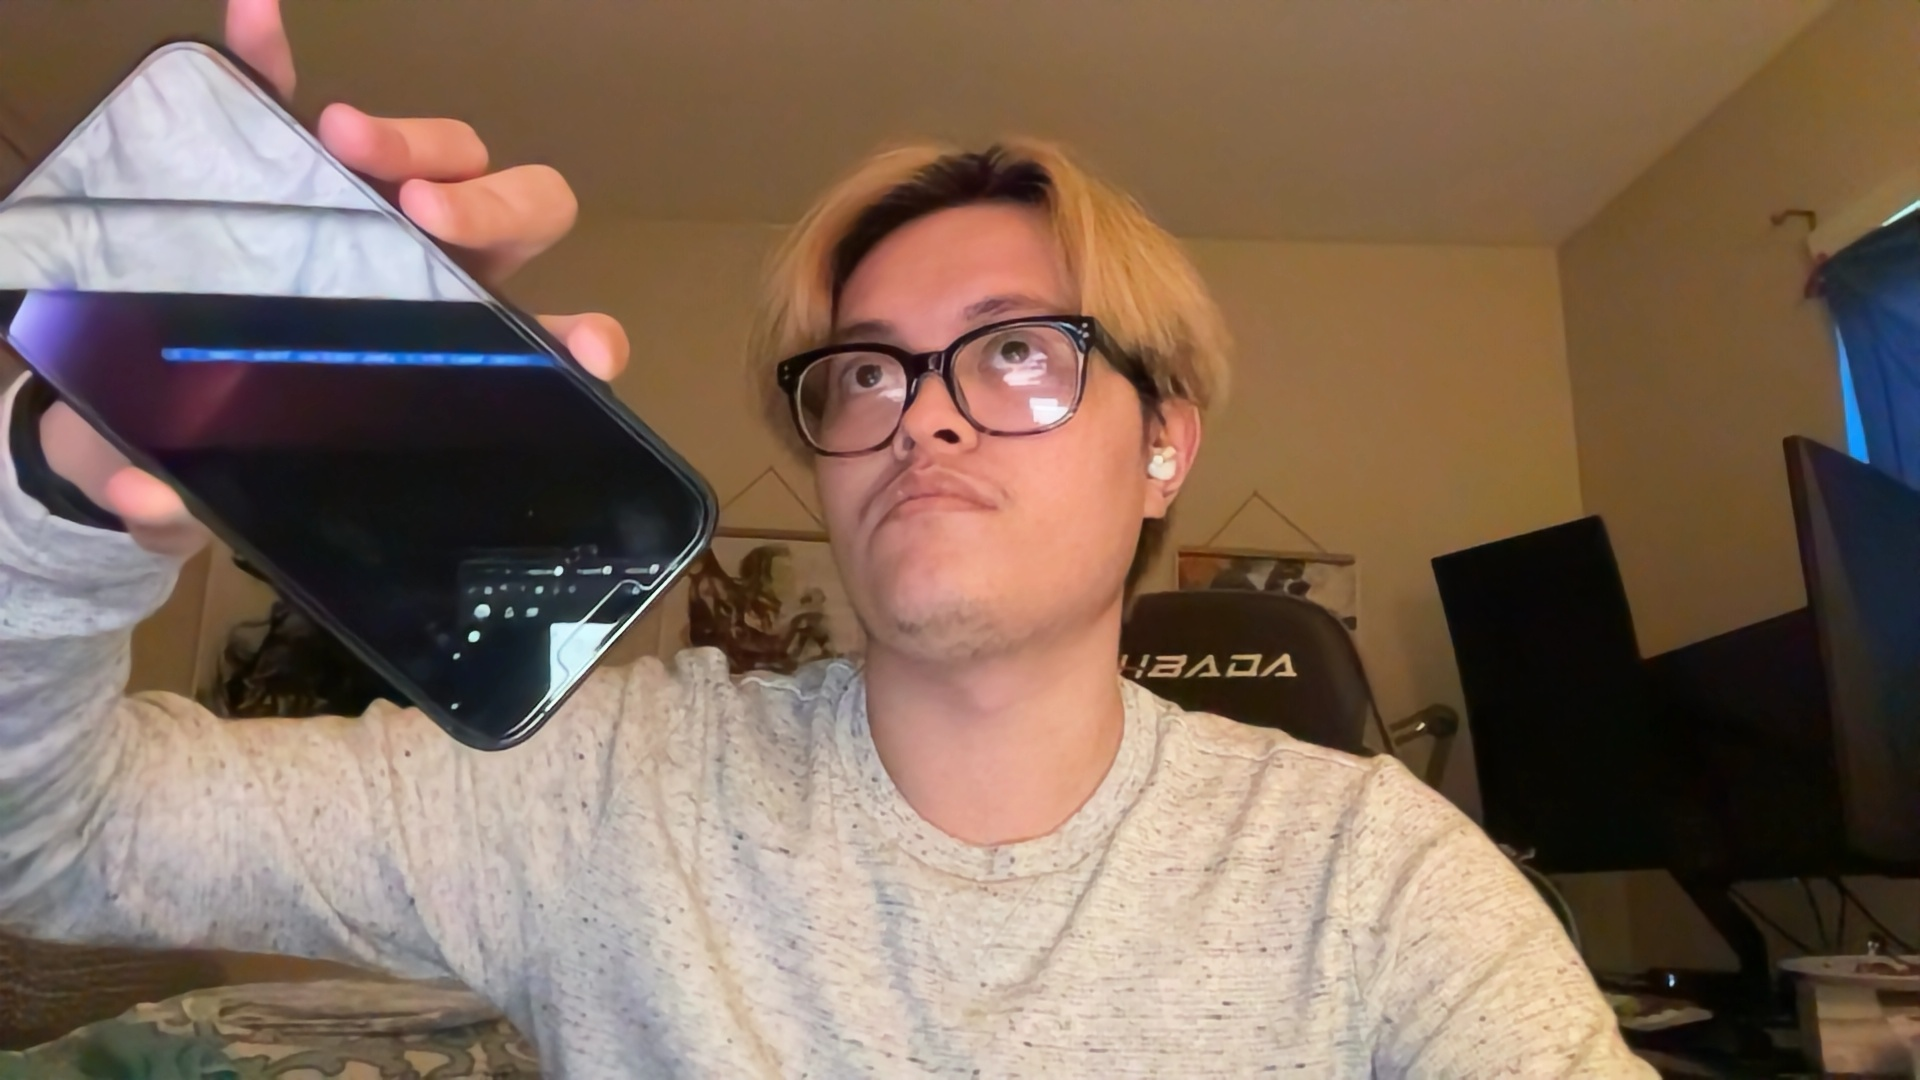phone: (1, 51, 740, 754)
